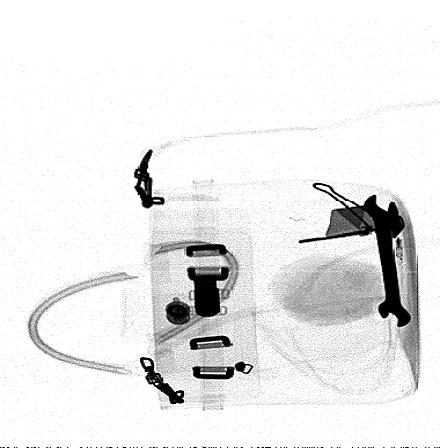Wrench: (362, 192, 412, 329)
